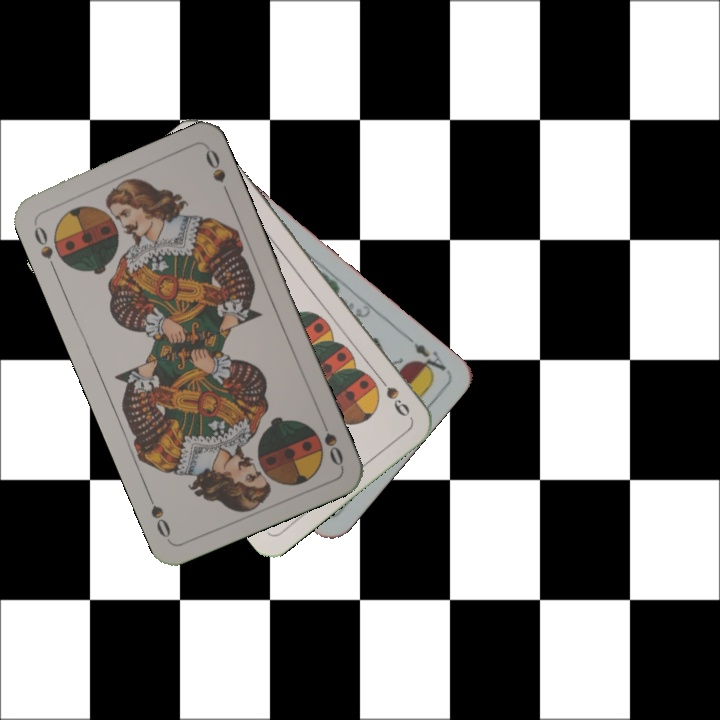EA: (401, 331, 449, 379)
S9: (371, 369, 413, 419)
SO: (316, 412, 346, 469), (29, 218, 59, 275)
